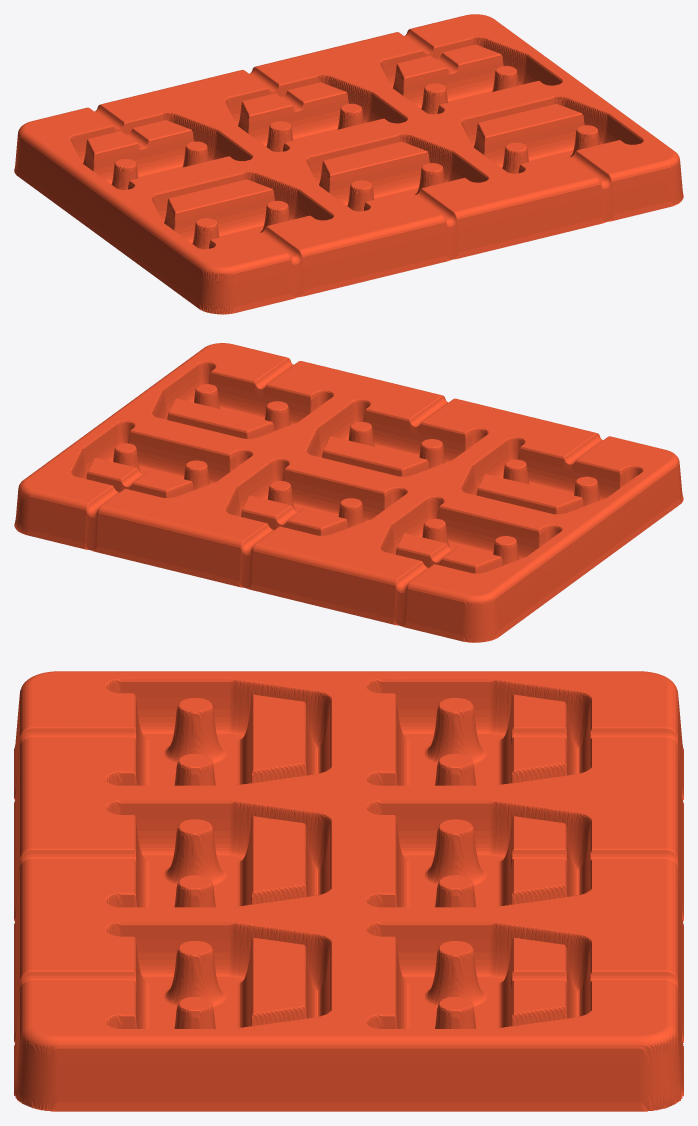
The model's file is mold.glb.
3 views of the same model, one above another, from view 1: azimuth 30°, elevation 25°; view 2: azimuth 150°, elevation 25°; view 3: azimuth 270°, elevation 25° (orthographic). The views are drawn at different scales.
Visible parts, largest first — view 1: geometry_0; view 2: geometry_0; view 3: geometry_0.
Part boxes in pixels (bbox=[...]): geometry_0: bbox=[14, 14, 683, 314]; geometry_0: bbox=[14, 343, 683, 642]; geometry_0: bbox=[14, 671, 683, 1111].
Size of the model in its own units: 0.1824 by 0.0155 by 0.1367.
